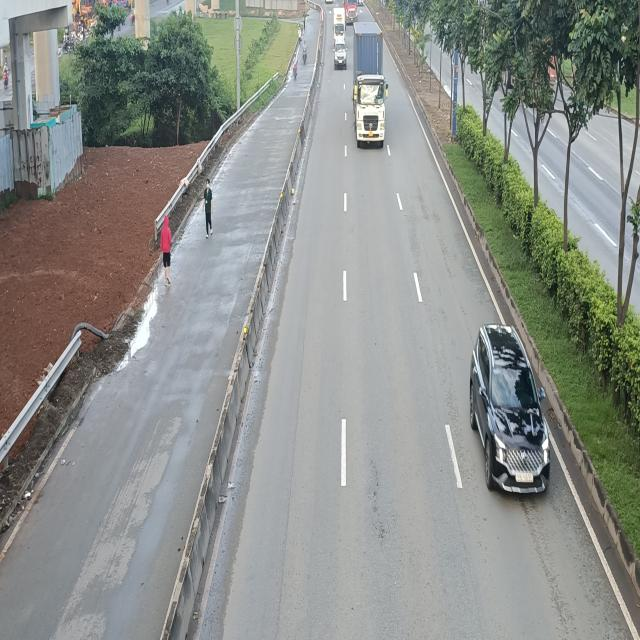car: (468, 325, 550, 498)
container: (352, 20, 388, 147), (346, 0, 358, 25)
